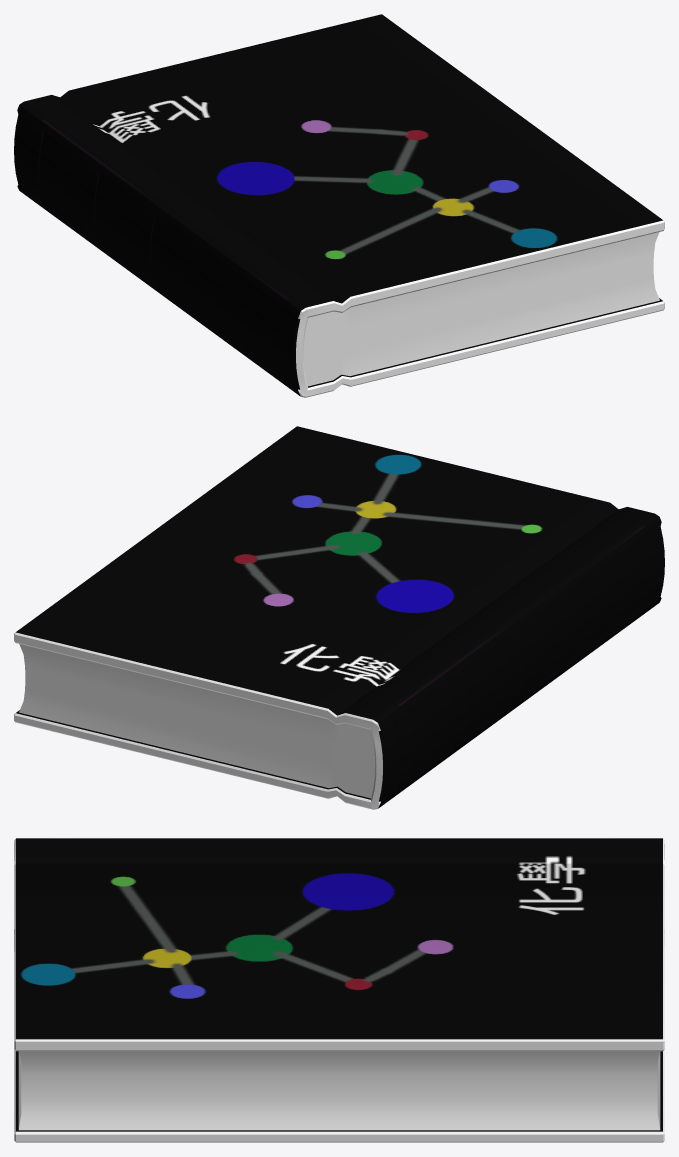
File: 化學課本.fbx
3 renders of one model, top to bottom at view 1: azimuth 30°, elevation 25°; view 2: azimuth 150°, elevation 25°; view 3: azimuth 270°, elevation 25°, orthographic. The views are drawn at different scales.
Parts seen in each view (by area): view 1: book; view 2: book; view 3: book.
Boxes of the visible parts, box(x1,y1,x2,y2) form: book: box(14, 14, 664, 397); book: box(14, 426, 664, 809); book: box(14, 838, 664, 1142).
Bounding box in the file's own units: 25.66 × 5.95 × 33.92.
1 material, 1 textured.
